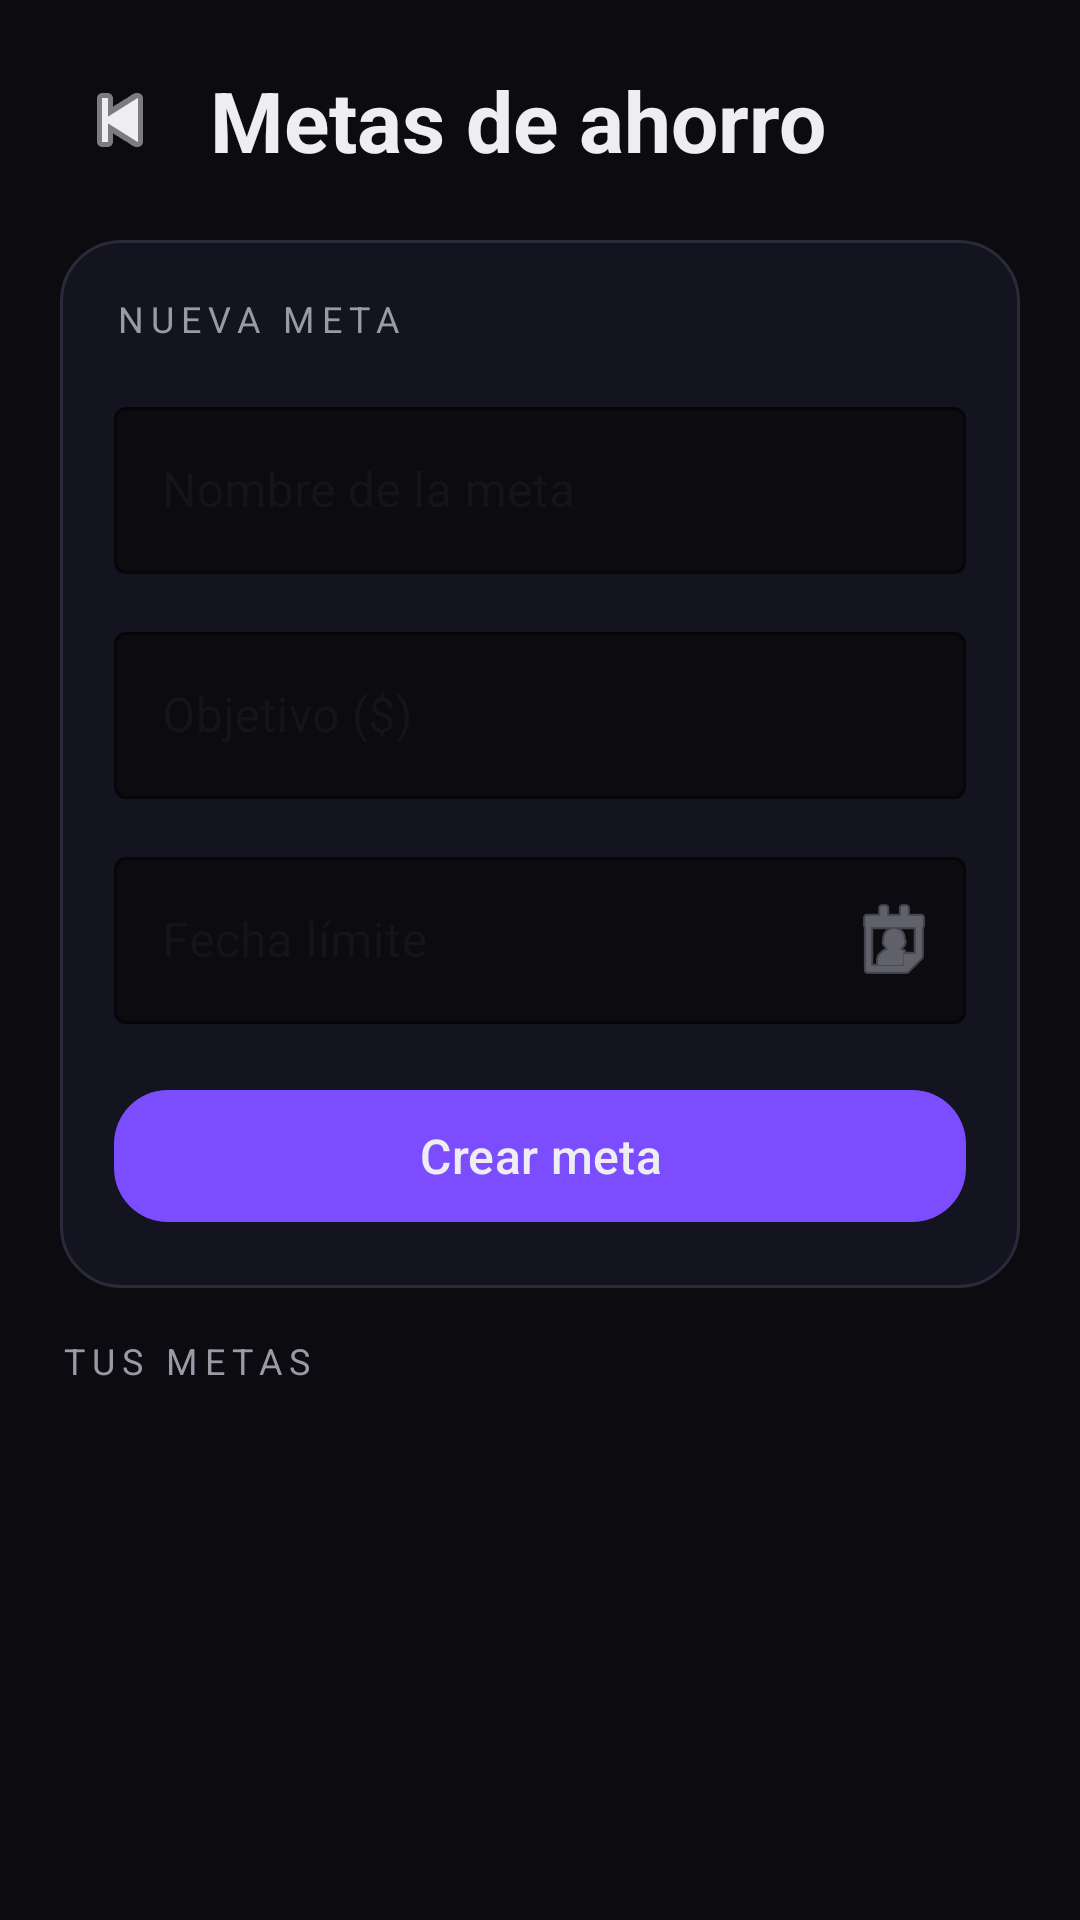

Named icons in this screenshot (1080 x 1920) and their centers, (x,y):
Volver: (120,120)
